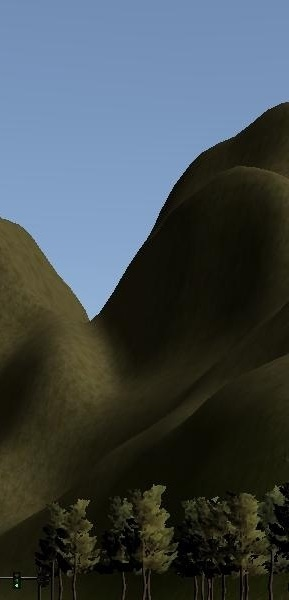Green: (11, 572, 21, 590)
